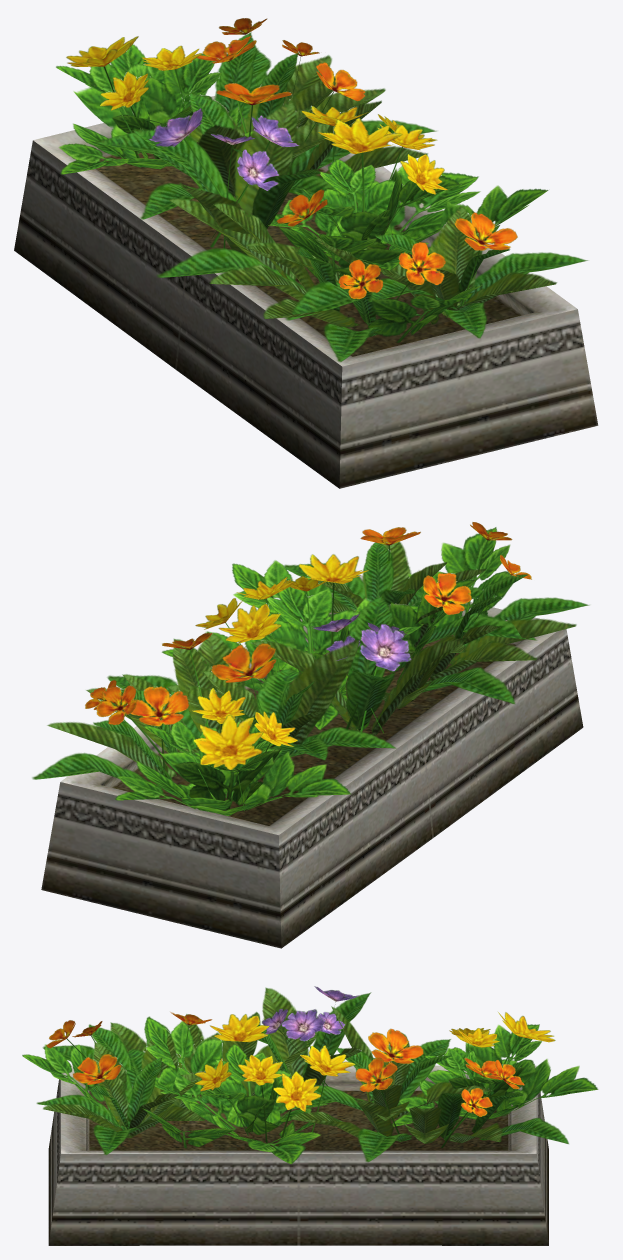
File: rd_flo11.glb
3 renders of one model, top to bottom at view 1: azimuth 30°, elevation 25°; view 2: azimuth 150°, elevation 25°; view 3: azimuth 270°, elevation 25°, orthographic. The views are drawn at different scales.
Visible parts, largest first — view 1: rd_flo11-col; view 2: rd_flo11-col; view 3: rd_flo11-col.
Part boxes in pixels (x1,y1,x2,y2): rd_flo11-col: (14,18,598,488); rd_flo11-col: (32,522,589,948); rd_flo11-col: (22,986,598,1245).
Bounding box in the file's own units: 3.61 × 2.06 × 6.03.
2 materials, 2 textured.
